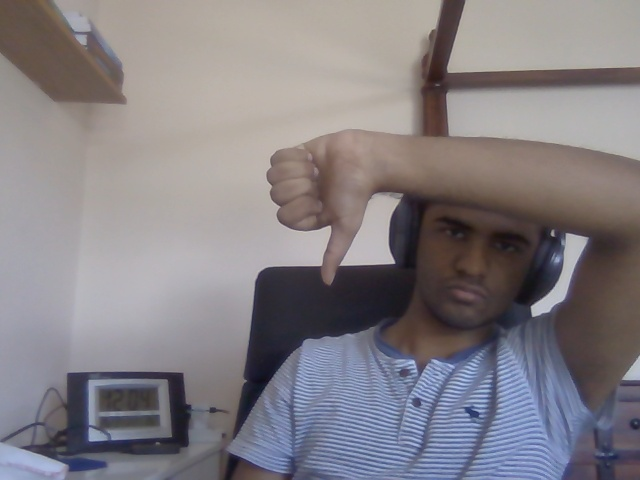No: (266, 130, 375, 286)
